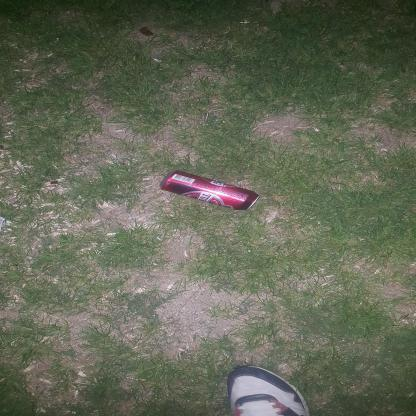metal: (171, 156, 212, 259)
